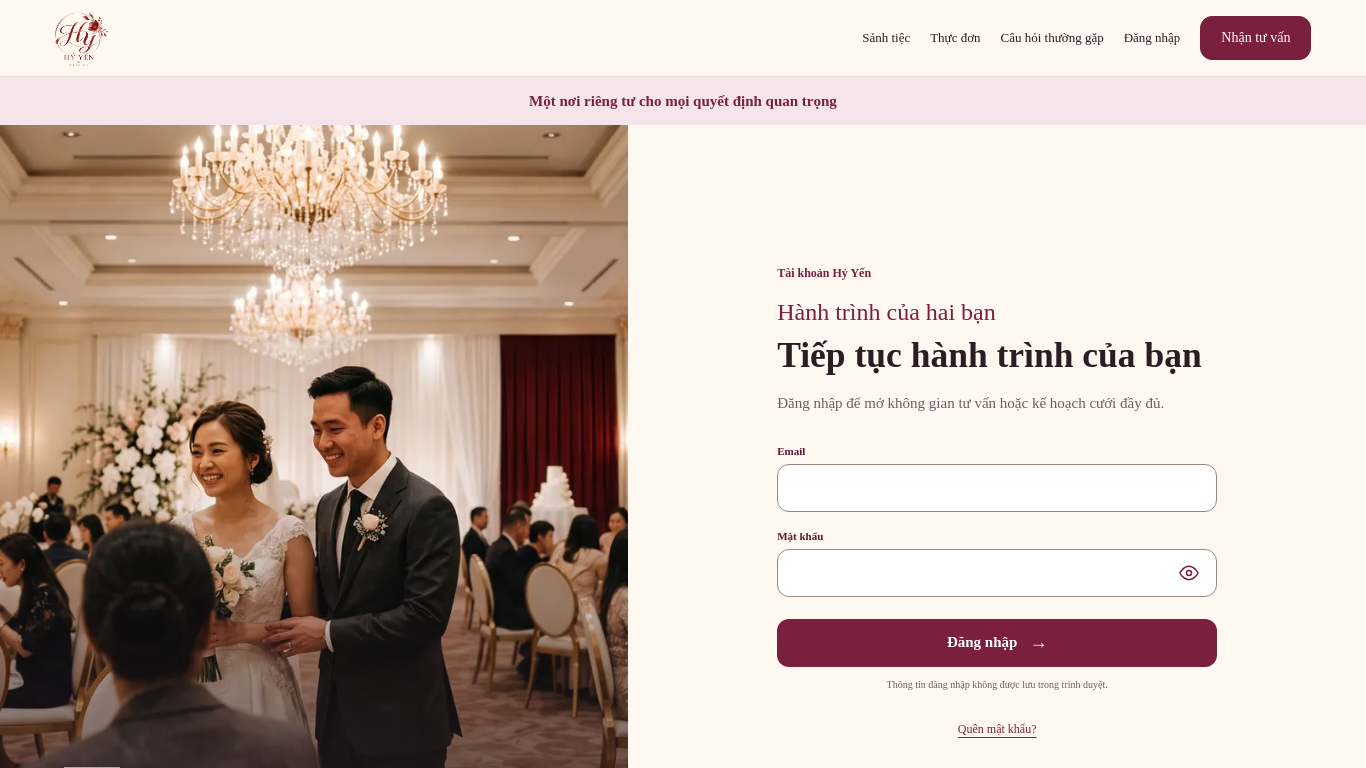
Test: Identity login password visibility toggle › toggles password visibility with an accessible eye icon button placed inside the field
Expected: the icon is shown, [1179,563,1199,583]
// Click eye icon to reveal password
Step 1. Click the button named "Hiện mật khẩu" → click(1189, 573), box [1171,555,1207,591]
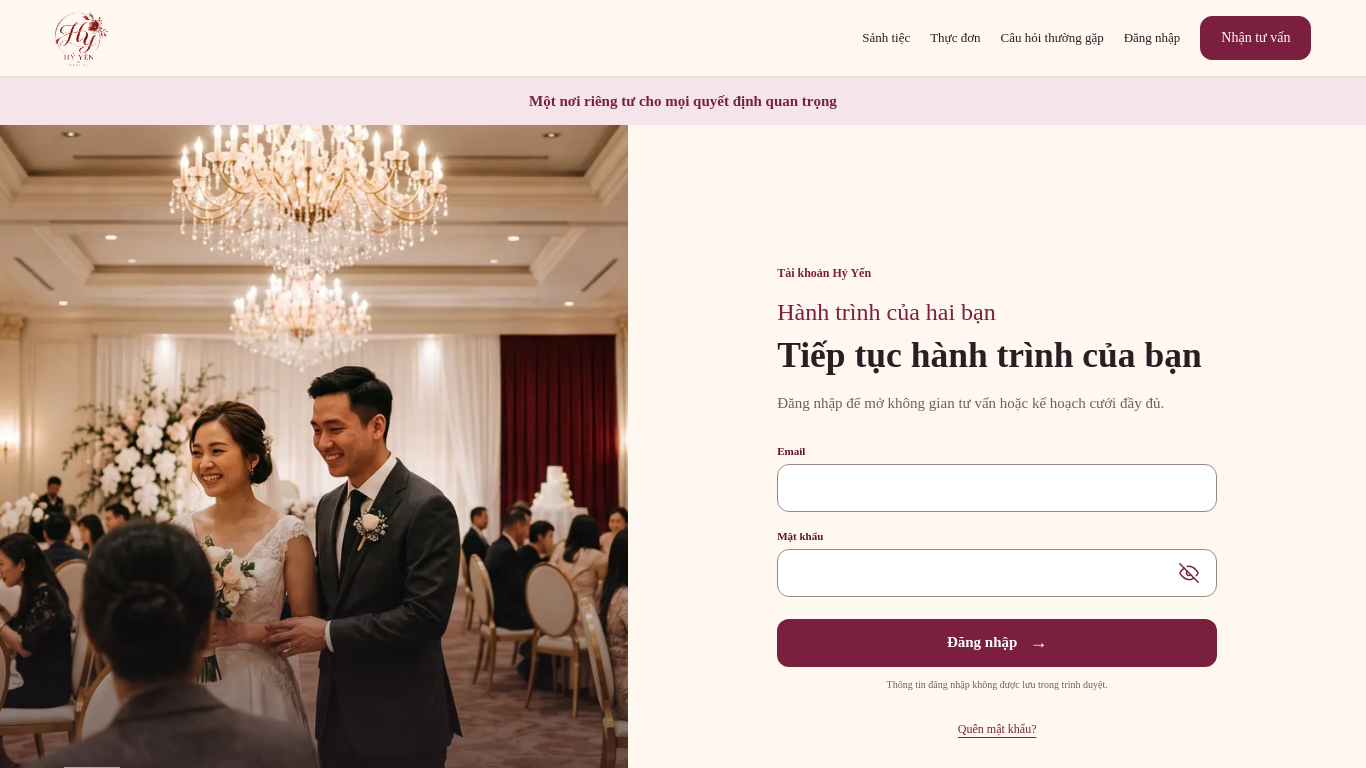
Result: the button named "Ẩn mật khẩu" is shown
// Click again to hide password
Step 2. Click the button named "Ẩn mật khẩu" → click(1189, 573), box [1171,555,1207,591]
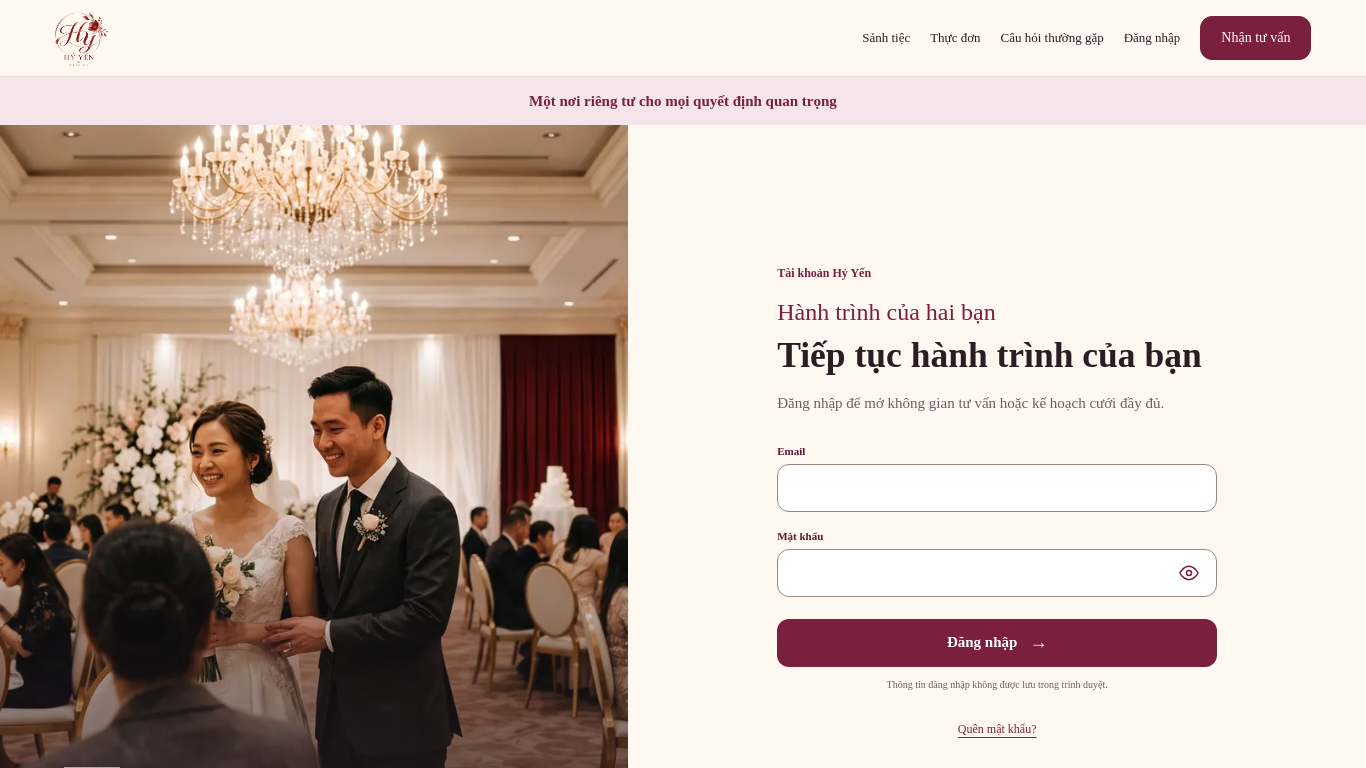
Result: the button named "Hiện mật khẩu" is shown at [1171,555,1207,591]
